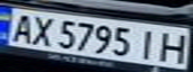5: (51, 17, 78, 51), (109, 25, 136, 58)
7: (72, 20, 96, 53)
9: (90, 21, 115, 56)
A: (3, 11, 39, 44)
H: (154, 29, 190, 64)
I: (133, 27, 163, 61)
X: (27, 14, 57, 47)
